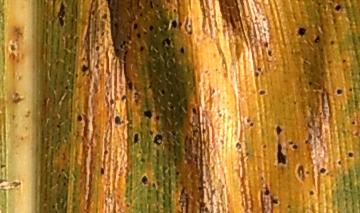tarspot: (275, 142, 288, 166), (56, 1, 67, 27), (152, 133, 164, 146), (113, 115, 124, 126), (297, 26, 307, 38), (263, 182, 270, 198), (161, 37, 171, 48), (268, 195, 279, 205), (142, 109, 152, 119), (125, 81, 134, 92), (132, 132, 139, 145), (80, 63, 89, 73), (233, 140, 242, 150), (140, 174, 148, 185), (275, 124, 282, 136), (318, 166, 327, 175), (313, 34, 321, 44), (257, 89, 267, 97), (99, 166, 106, 177), (171, 19, 178, 30), (119, 39, 126, 50), (334, 4, 342, 13), (266, 49, 274, 58), (138, 44, 145, 54), (158, 88, 166, 96), (346, 151, 354, 159), (131, 22, 139, 30), (154, 114, 162, 122), (179, 46, 186, 55), (336, 88, 343, 97), (76, 114, 83, 123), (135, 31, 142, 40), (102, 148, 109, 156), (147, 24, 154, 32), (262, 41, 270, 48), (307, 189, 315, 196), (244, 117, 252, 124), (303, 139, 310, 147), (120, 94, 127, 102), (167, 104, 175, 111), (148, 1, 154, 10), (150, 182, 157, 189), (190, 107, 197, 114), (340, 58, 347, 65), (63, 84, 70, 91), (105, 1, 112, 8), (174, 169, 180, 177), (350, 119, 356, 127), (253, 70, 259, 78), (94, 44, 100, 52), (337, 159, 343, 167), (197, 184, 203, 192), (51, 202, 56, 211), (147, 130, 154, 136), (139, 157, 146, 163), (291, 144, 298, 150), (329, 39, 335, 46), (55, 123, 61, 130), (172, 8, 178, 15), (285, 203, 291, 209), (261, 143, 267, 149), (60, 167, 66, 173), (62, 181, 68, 187), (62, 174, 68, 180), (249, 122, 254, 129), (307, 79, 312, 85), (112, 22, 117, 28), (288, 140, 293, 145), (57, 172, 61, 178)
